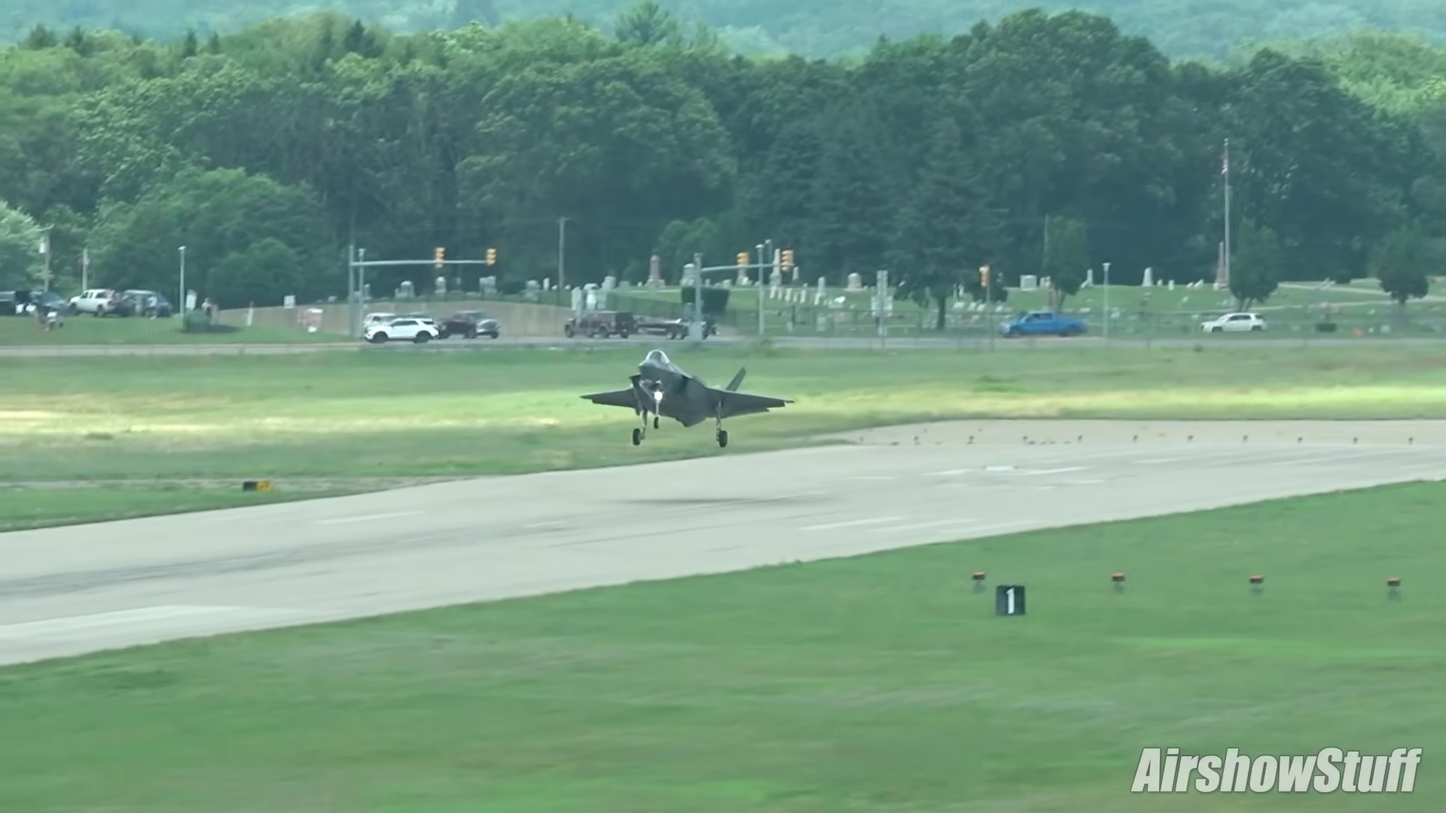F35: (578, 338, 800, 458)
